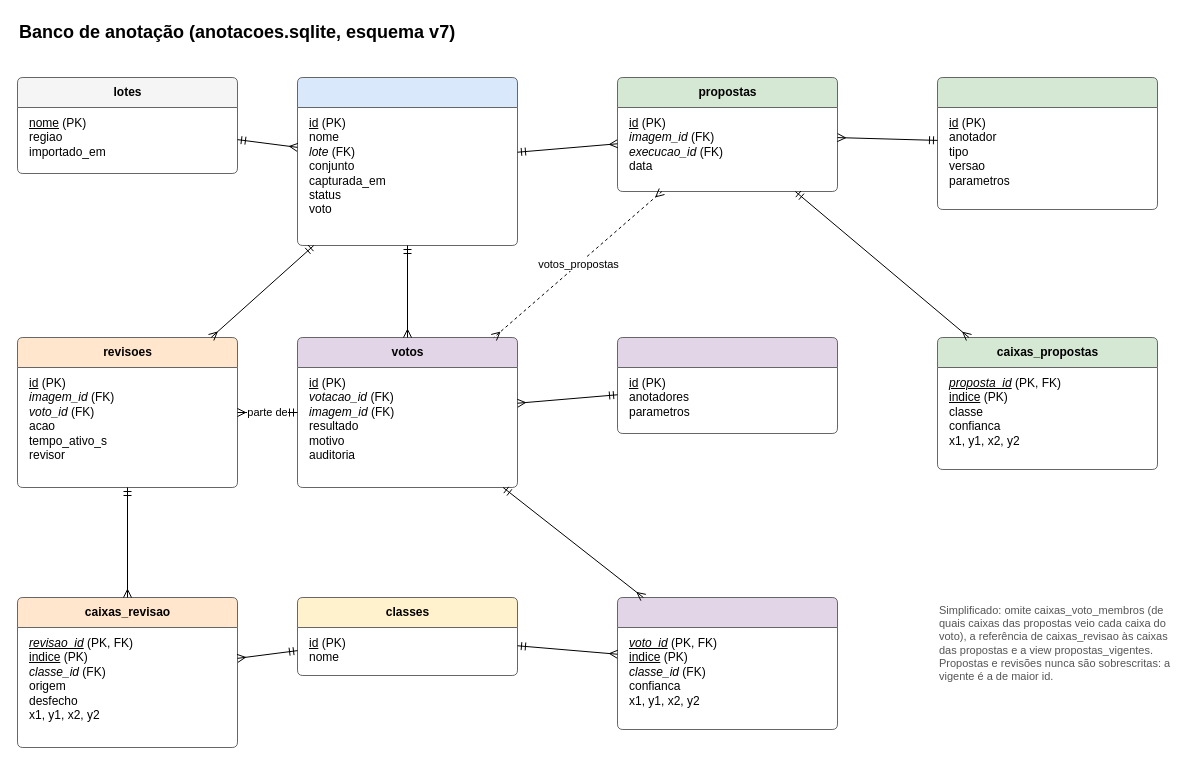
The diagram is 1195 pixels wide and 765 high, and some of its shapes have lost their labels. Here are the shapes that lost their labels. From the top down, the box of each, then its label:
(296, 76, 518, 246): imagens
(936, 76, 1158, 210): execucoes
(616, 336, 838, 434): votacoes
(616, 596, 838, 730): caixas_voto
